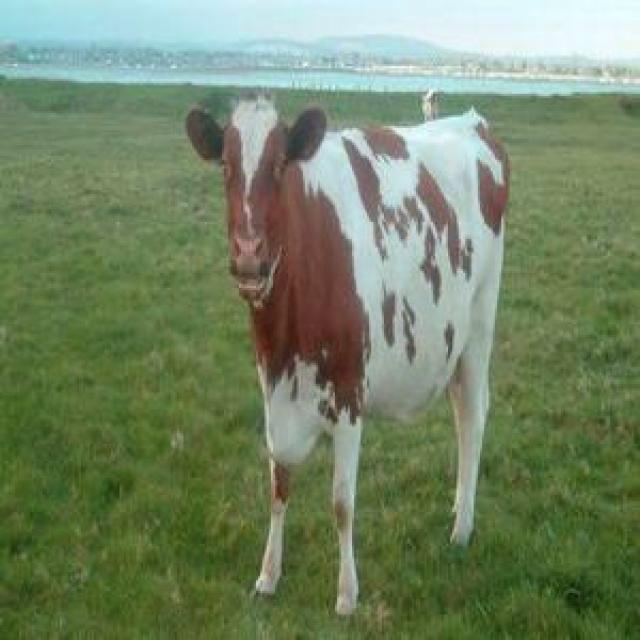cow: (186, 95, 509, 614)
